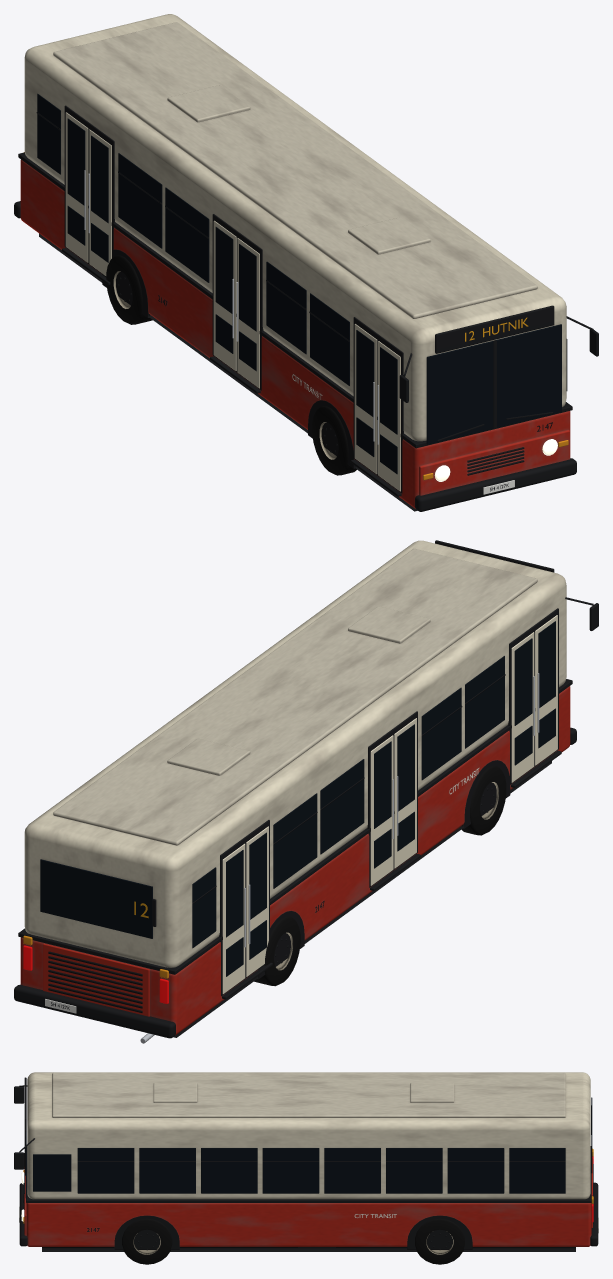
File: autobus.glb
3 views of the same model, one above another, from view 1: azimuth 30°, elevation 25°; view 2: azimuth 150°, elevation 25°; view 3: azimuth 270°, elevation 25° (orthographic). The views are drawn at different scales.
Visible parts, largest first — view 1: Nadwozie, Detale, Kolo1, Kolo3; view 2: Nadwozie, Detale, Kolo1, Kolo3; view 3: Nadwozie, Detale, Kolo2, Kolo4.
Boxes of the visible parts, left/top/right/bottom form: Nadwozie: left=20, top=14, right=570, bottom=508; Detale: left=14, top=93, right=598, bottom=511; Kolo1: left=312, top=406, right=356, bottom=475; Kolo3: left=106, top=255, right=152, bottom=324; Nadwozie: left=20, top=540, right=570, bottom=1035; Detale: left=14, top=540, right=598, bottom=1043; Kolo1: left=461, top=766, right=506, bottom=835; Kolo3: left=254, top=916, right=300, bottom=986; Nadwozie: left=24, top=1072, right=591, bottom=1246; Detale: left=14, top=1077, right=598, bottom=1251; Kolo2: left=122, top=1218, right=172, bottom=1264; Kolo4: left=415, top=1218, right=464, bottom=1264.
Size of the model in its own units: 3.09 by 3.14 by 11.39.
Materials: 15 (1 with a texture image).
